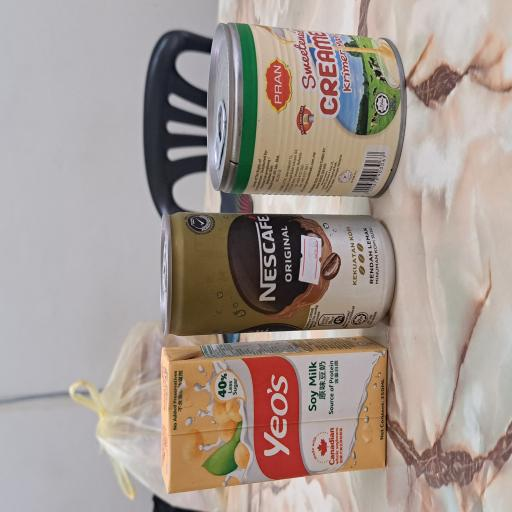can: (237, 276, 367, 512), (134, 211, 225, 512)
drink carton: (13, 210, 133, 512)
pop tab: (256, 281, 311, 307), (163, 210, 203, 228)
